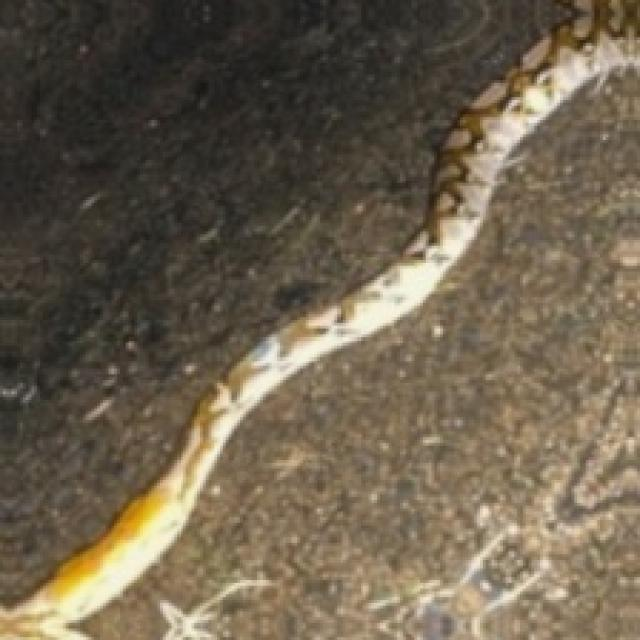reticulated python: (0, 3, 637, 637)
